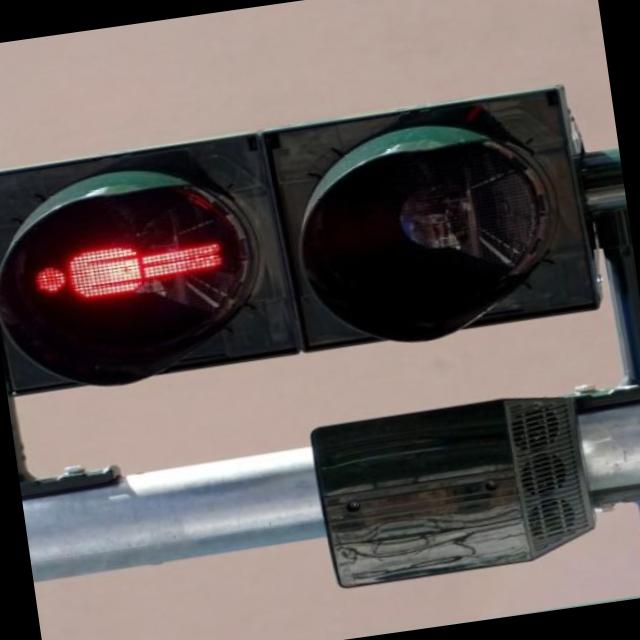red_light: (22, 205, 233, 348)
